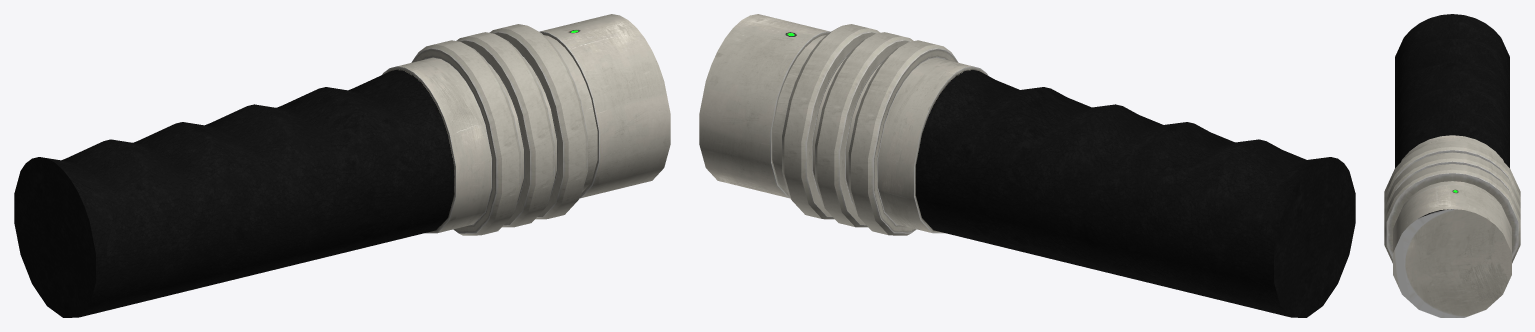
Rendered from grip_11_c_d.glb.
3 renders of one model, left to right at view 1: azimuth 30°, elevation 25°; view 2: azimuth 150°, elevation 25°; view 3: azimuth 270°, elevation 25°, orthographic. The views are drawn at different scales.
Parts seen in each view (by area): view 1: grip_11_c_d_lod0; view 2: grip_11_c_d_lod0; view 3: grip_11_c_d_lod0.
Part boxes in pixels (x1=…): grip_11_c_d_lod0: x1=14, y1=14, x2=670, y2=317; grip_11_c_d_lod0: x1=699, y1=14, x2=1355, y2=317; grip_11_c_d_lod0: x1=1384, y1=14, x2=1520, y2=317.
Size of what is drawn, in the model's own units: 0.1055 by 0.0312 by 0.0309.
Materials: 1 (1 with a texture image).
